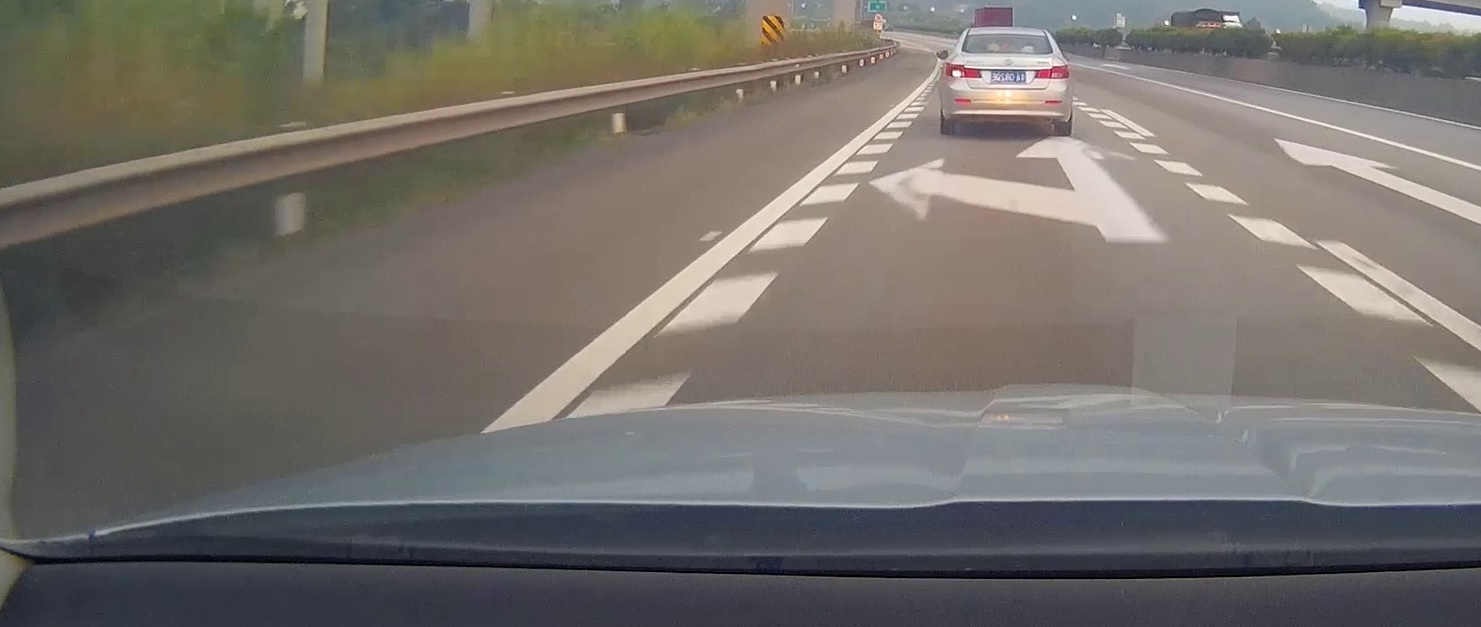L_light: (945, 62, 982, 78)
R_light: (1033, 64, 1069, 79)
T_light: (997, 51, 1022, 53)
day-left: (938, 27, 1073, 136)
